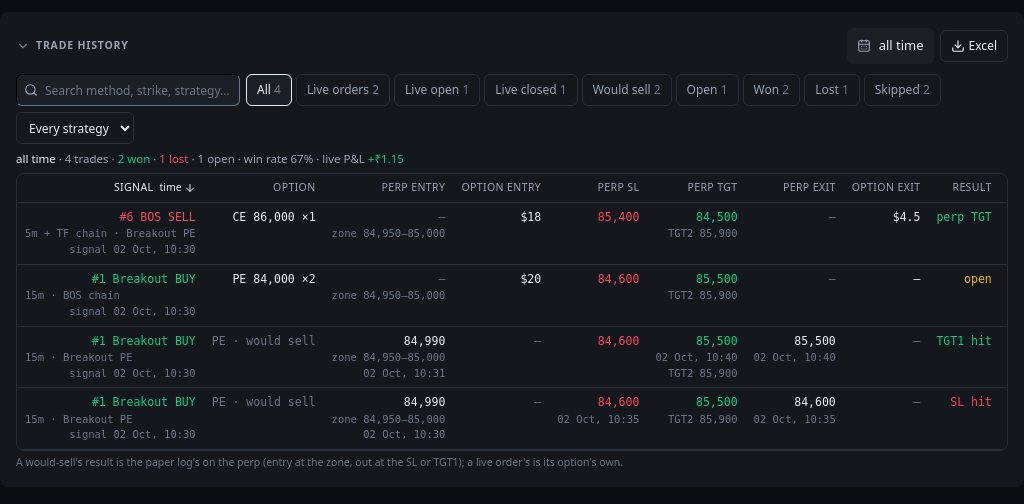
Test: the tabs › [critical] each with its count; Skipped lists the signals not taken, with why -- and they are in no trade figure
Expected: the element named "history totals" shows "4 trades · 2 won · 1 lost · 1 open", [16,151,404,166]
Click the button "Skipped 2". click: (902, 90)
box: [864,74,941,106]
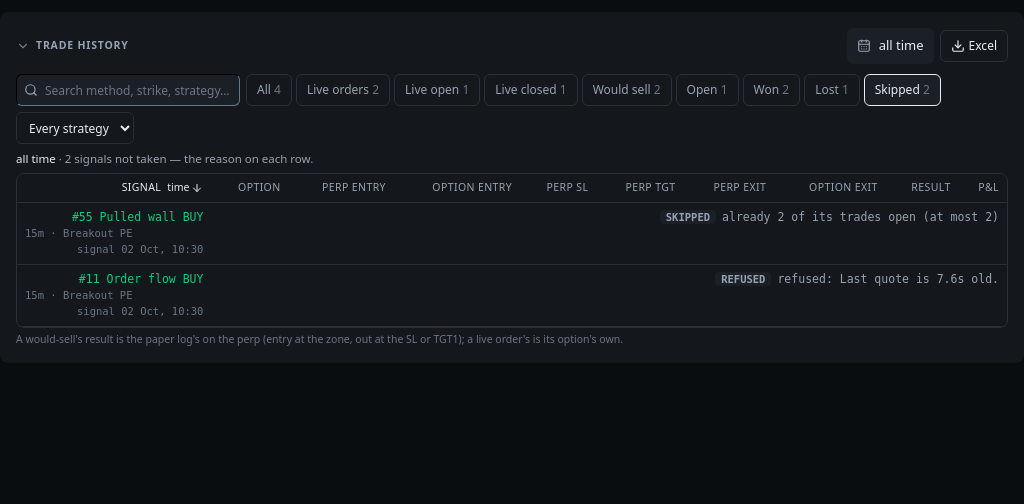
Expected: the element named "history totals" shows "2 signals not taken", [16,151,313,166]
Expected: the fields labelled "why not taken" read "skippedalready 2 of its trades open (at most 2)", "refusedrefused: Last quote is 7.6s old.", in this order, [212,202,1007,264]; [212,264,1007,326]
Click the button "Won 2". click: (771, 90)
box: [742,74,800,106]
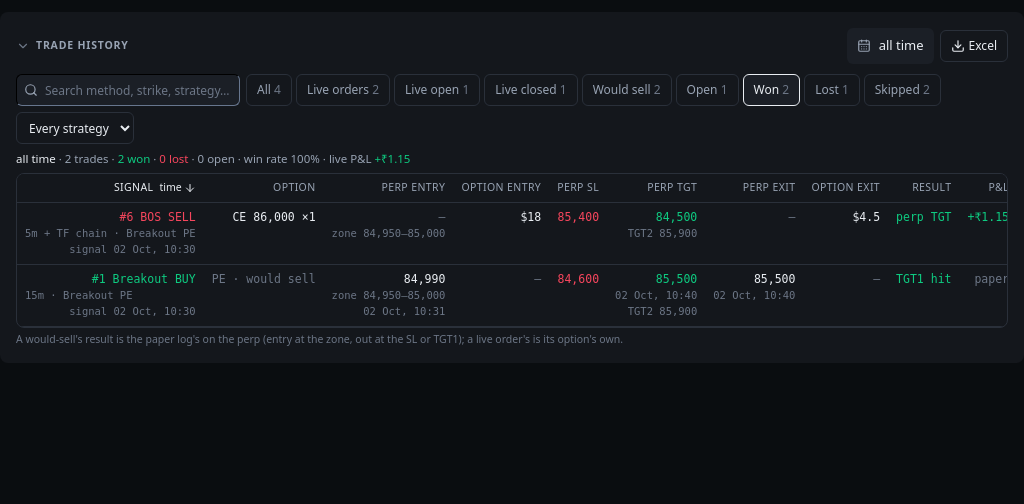
Expected: the number of rows is 3, [17,174,1008,203]; [17,202,1008,264]; [17,264,1008,326]
Click the button "Lost 1". click: (832, 90)
box: [804,74,860,106]
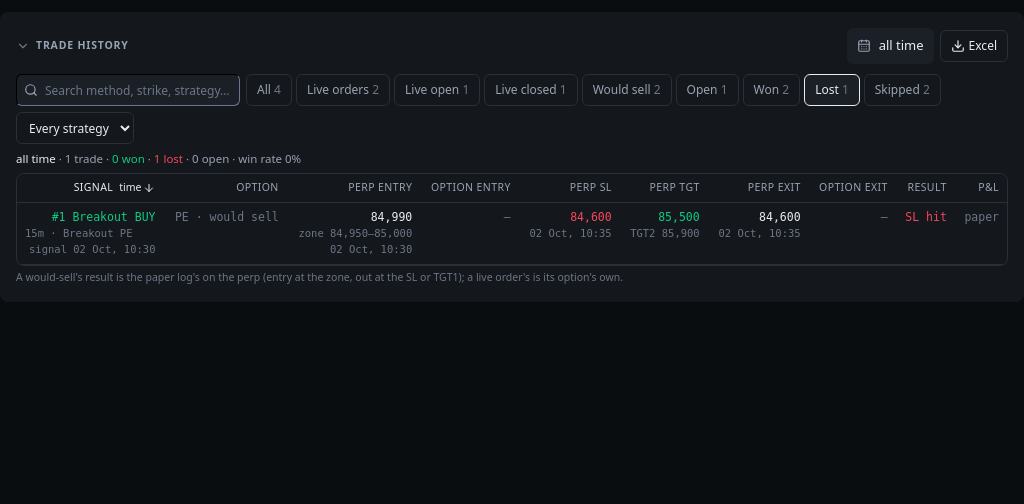
Expected: the element named "history totals" shows "1 trade · 0 won · 1 lost", [16,151,301,166]
